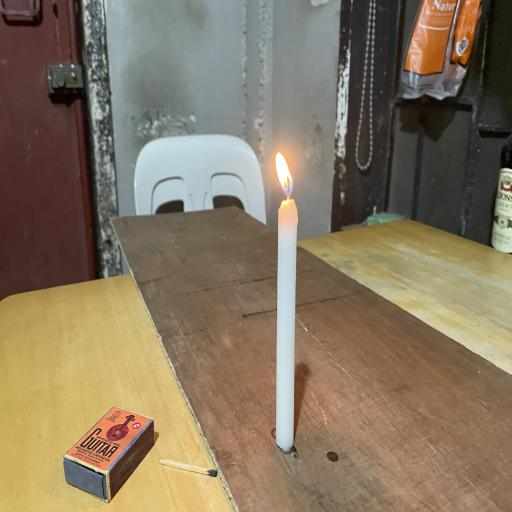fire: (266, 145, 302, 198)
